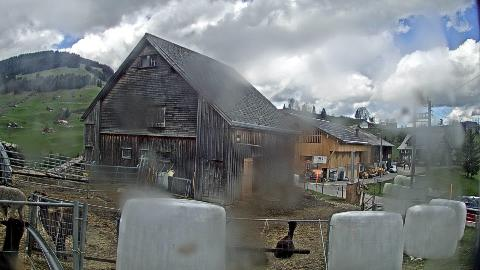car: (450, 194, 480, 222), (388, 165, 398, 173), (418, 162, 426, 166)
sheep: (28, 192, 88, 262), (0, 216, 30, 270), (0, 186, 28, 222), (273, 220, 297, 258), (118, 186, 146, 202)
